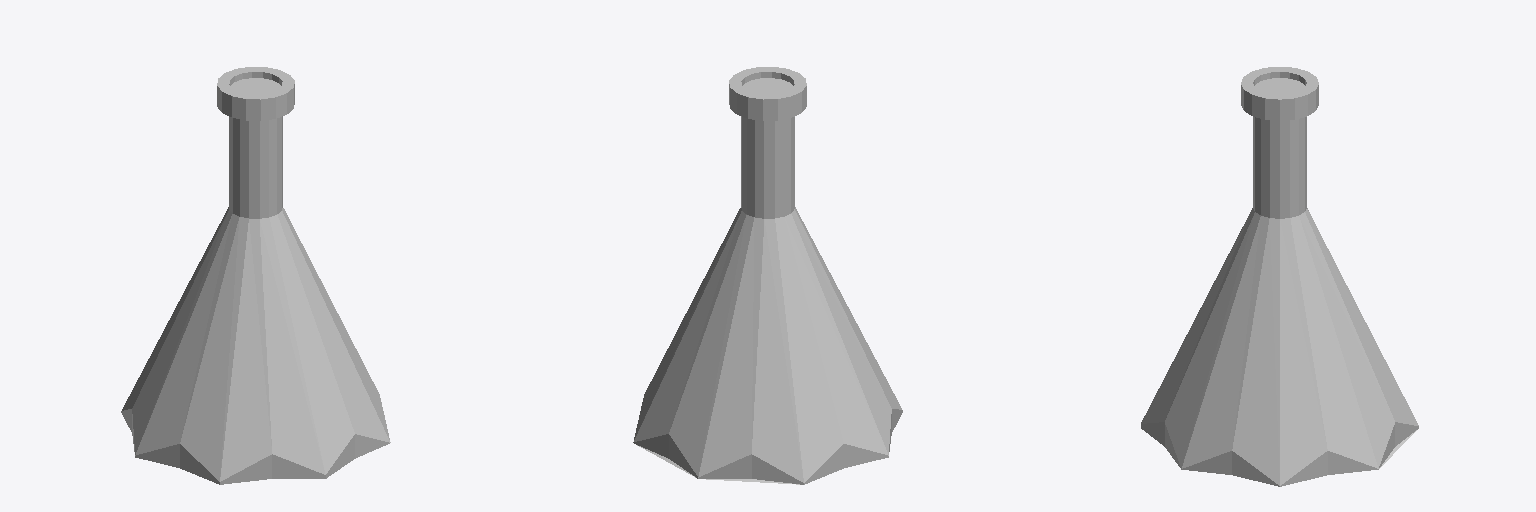
File: mana_potion_2.obj
The picture shows the model from 3 angles: view 1: azimuth 30°, elevation 25°; view 2: azimuth 150°, elevation 25°; view 3: azimuth 270°, elevation 25°; orthographic projection.
Visible parts, largest first — view 1: Cylinder.001; view 2: Cylinder.001; view 3: Cylinder.001.
Boxes of the visible parts, <box> form: Cylinder.001: <box>121,67,390,484</box>; Cylinder.001: <box>633,67,902,484</box>; Cylinder.001: <box>1141,67,1418,486</box>.
Size of the model in its own units: 2 by 2.74 by 2.